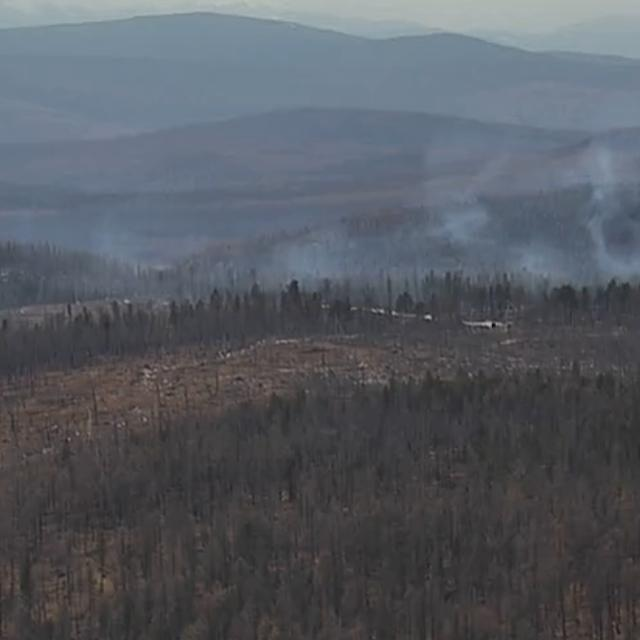Smoke: (0, 96, 640, 322)
